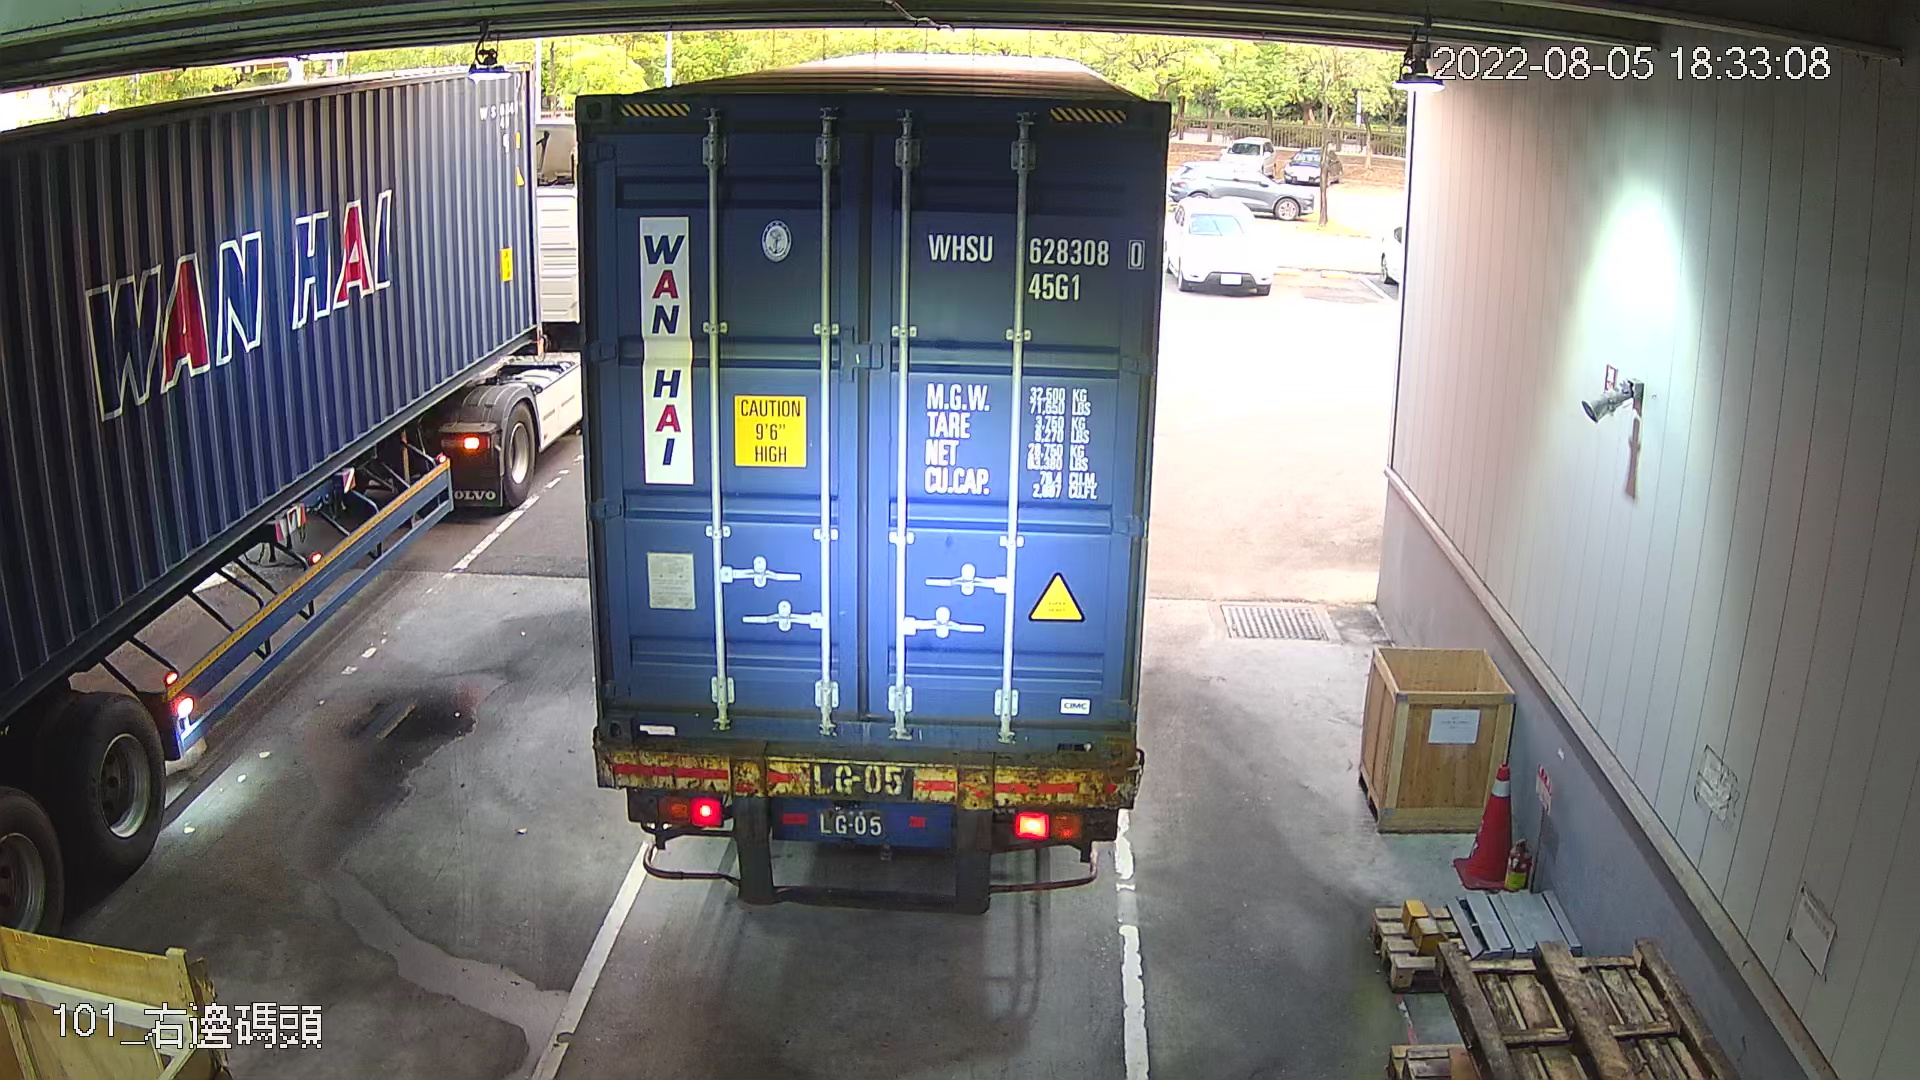container: (920, 219, 1151, 316)
